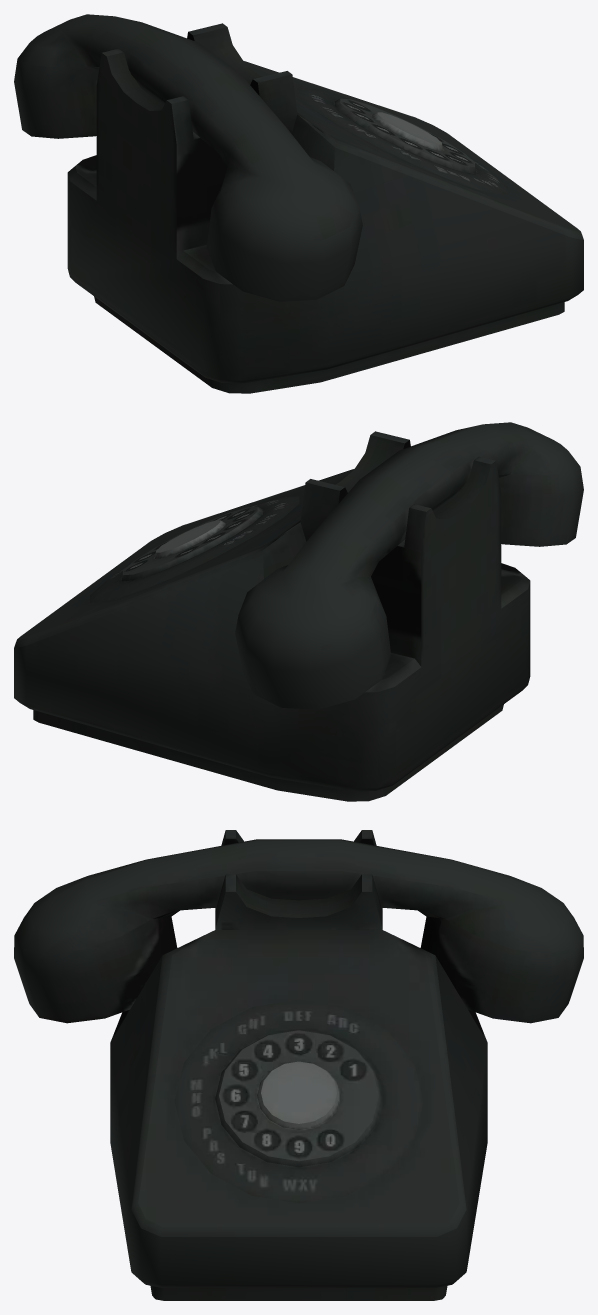
3 renders of one model, top to bottom at view 1: azimuth 30°, elevation 25°; view 2: azimuth 150°, elevation 25°; view 3: azimuth 270°, elevation 25°, orthographic. The views are drawn at different scales.
Visible parts, largest first — view 1: body0_model0_lod0_mesh0; view 2: body0_model0_lod0_mesh0; view 3: body0_model0_lod0_mesh0.
Part boxes in pixels (<box>): body0_model0_lod0_mesh0: <box>14,14,583,393</box>; body0_model0_lod0_mesh0: <box>14,422,583,801</box>; body0_model0_lod0_mesh0: <box>14,830,583,1300</box>.
Bounding box in the file's own units: 22.83 × 15.81 × 27.2.
1 material, 1 textured.
